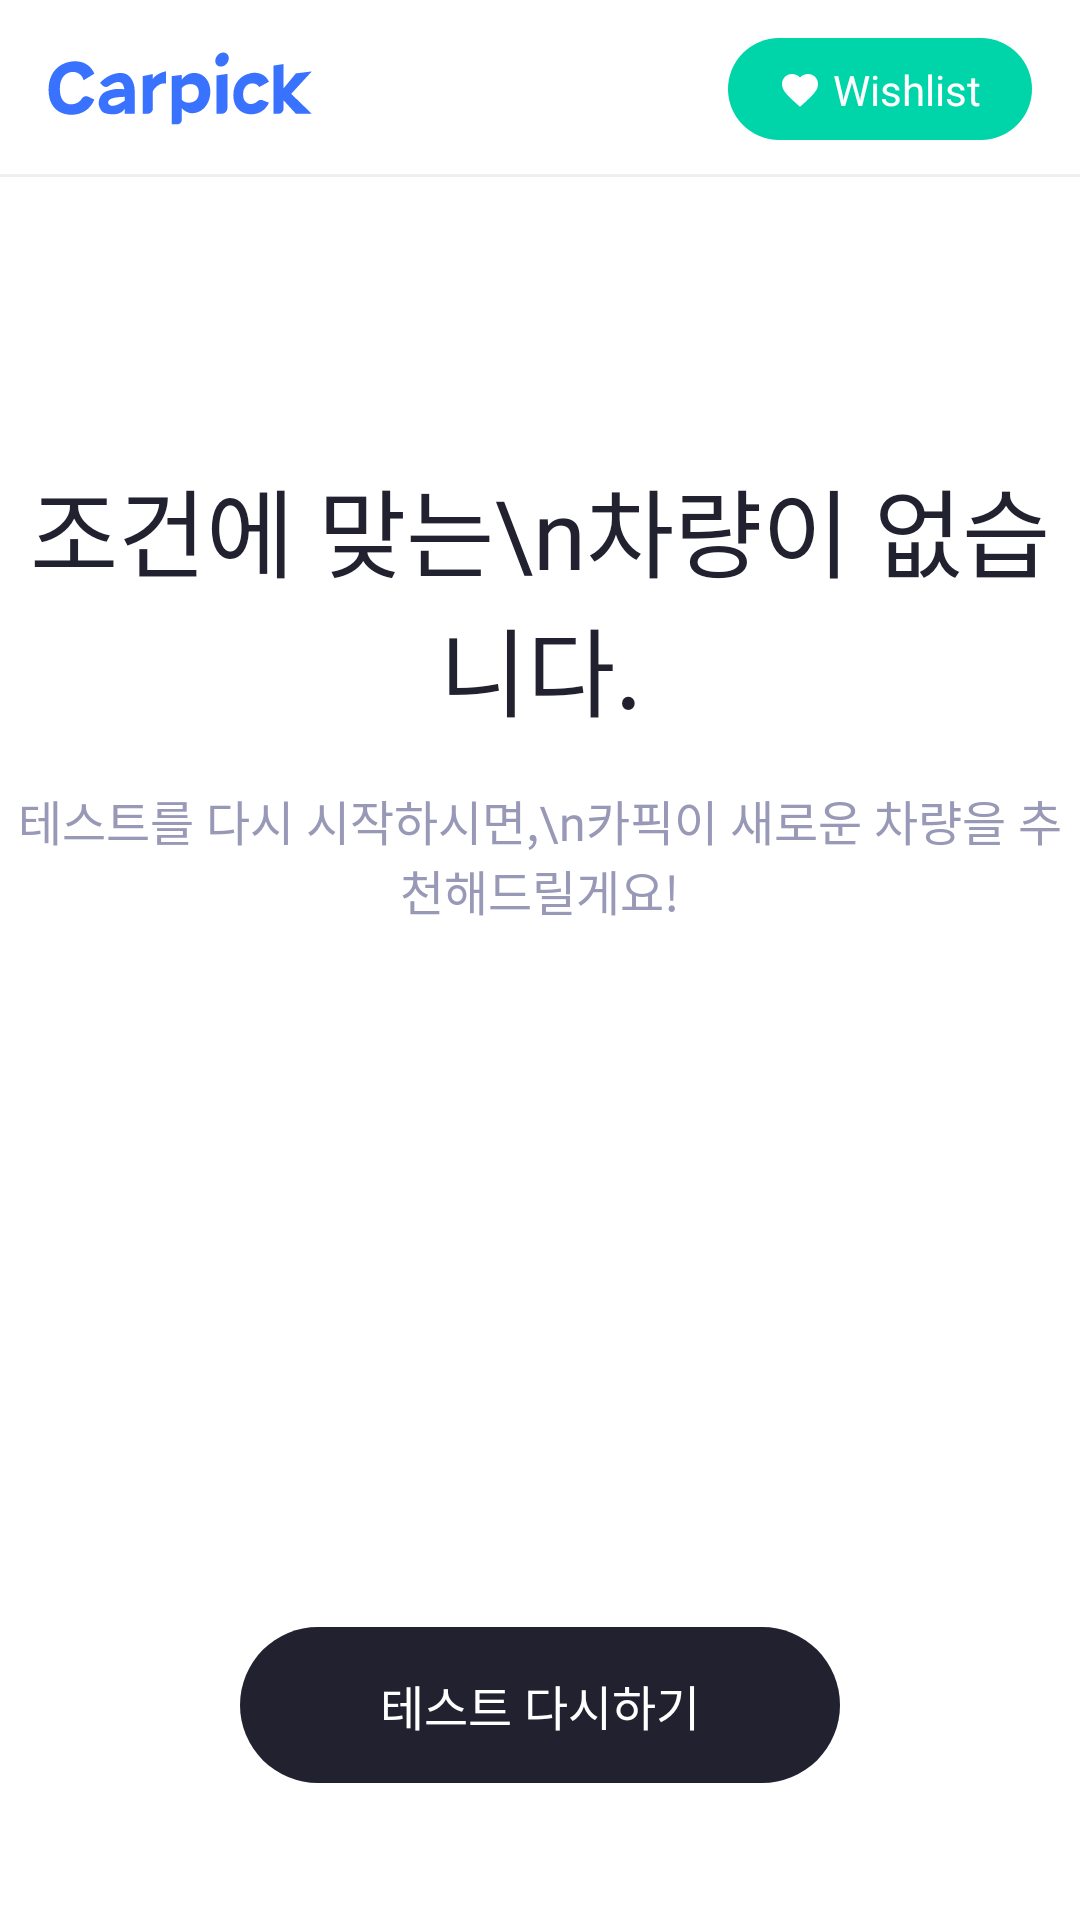

Icon bounding boxes for this 1080 × 1920 phone screenshot, format (x1=x1, y1=y1, x2=x2, y2=y2):
heart: (x1=782, y1=74, x2=818, y2=107)
